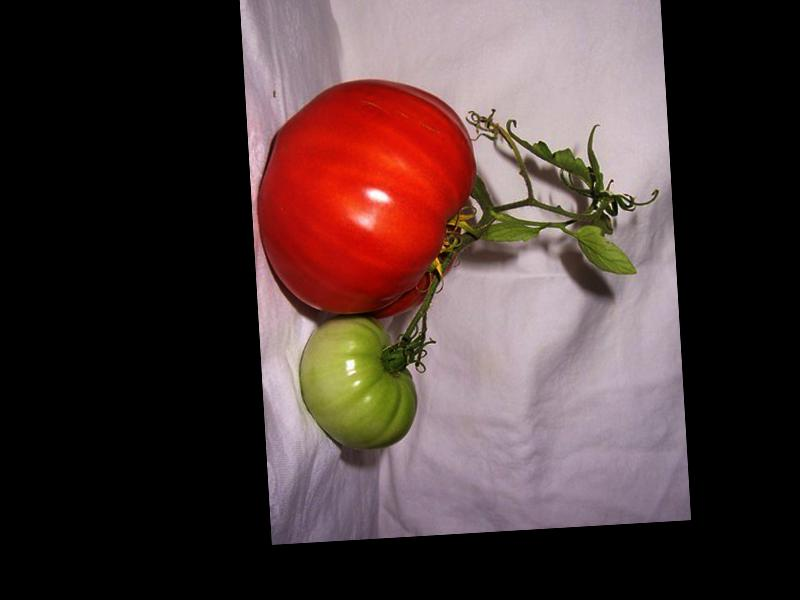Tomato: (252, 73, 484, 325)
